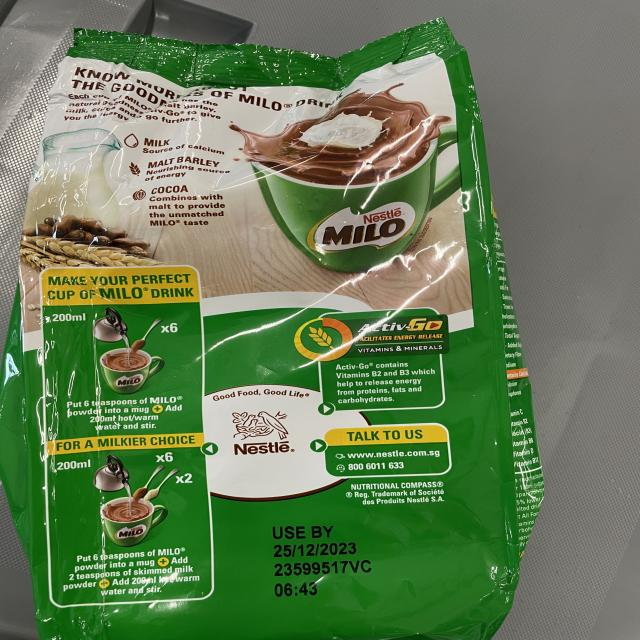object_name: (32, 44, 516, 637)
